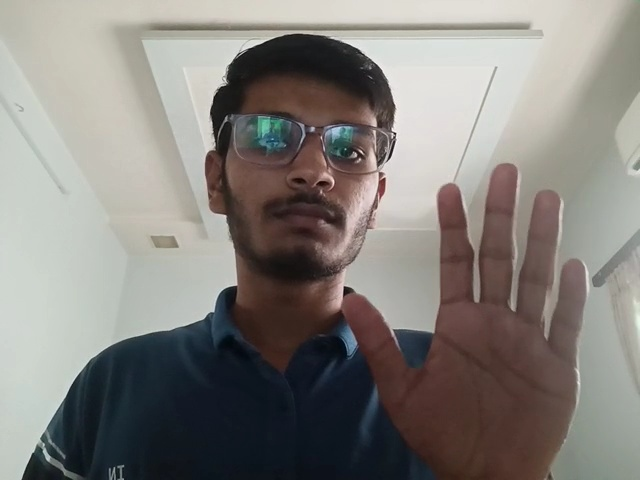Hello: (334, 158, 607, 480)
